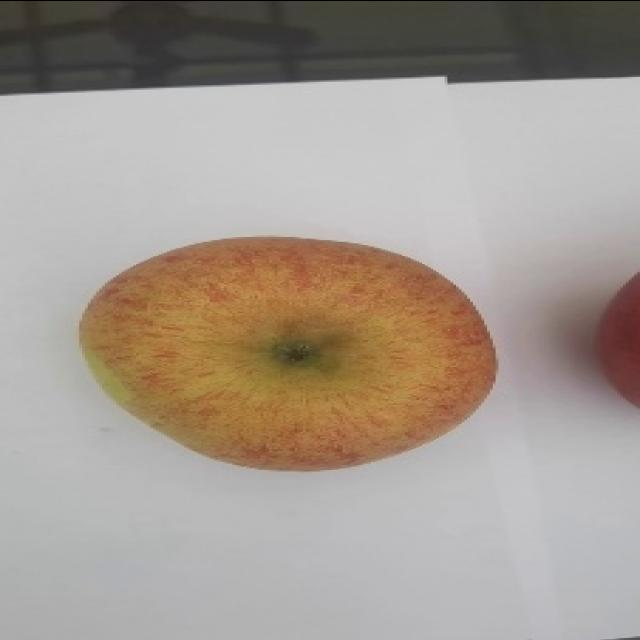Apple: (78, 234, 498, 471), (595, 270, 639, 408)
